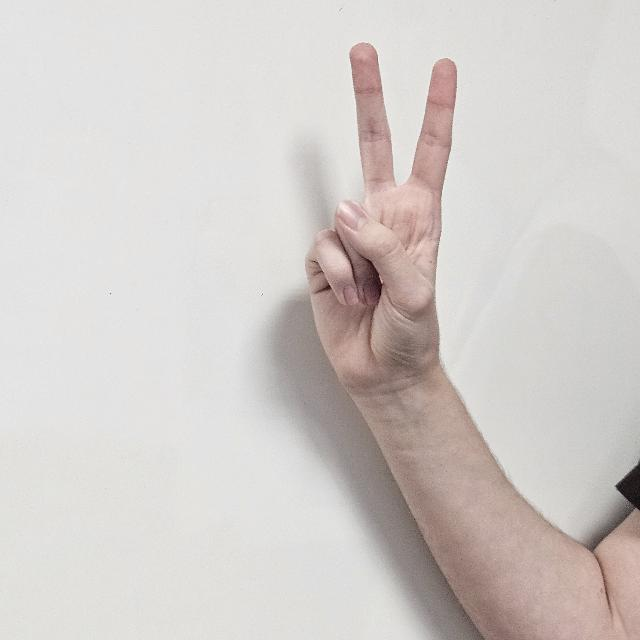Triangulo: (303, 41, 462, 421)
